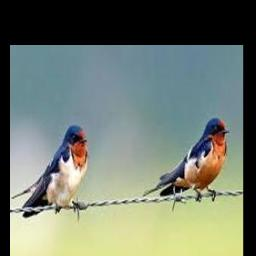Swallow: (143, 117, 231, 200), (12, 125, 89, 217)
